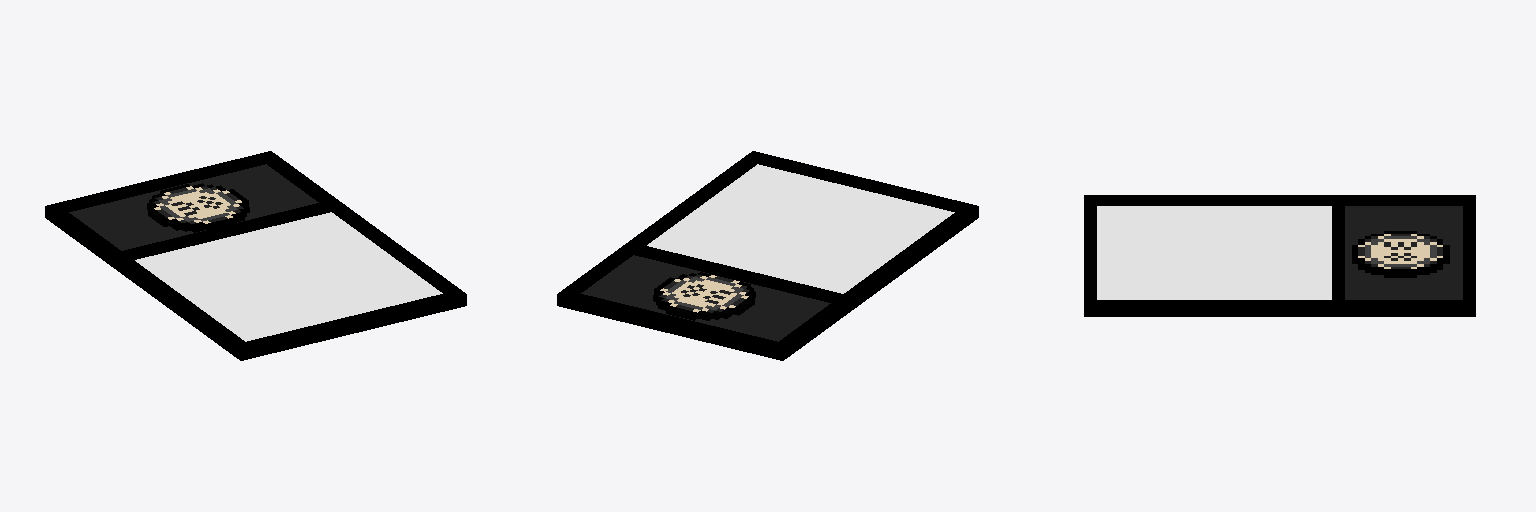
3 renders of one model, left to right at view 1: azimuth 30°, elevation 25°; view 2: azimuth 150°, elevation 25°; view 3: azimuth 270°, elevation 25°, orthographic.
Parts seen in each view (by area): view 1: object 1; view 2: object 1; view 3: object 1.
Boxes of the visible parts, x1=… form: object 1: x1=45, y1=151, x2=466, y2=360; object 1: x1=557, y1=151, x2=978, y2=360; object 1: x1=1084, y1=195, x2=1475, y2=316.
Bounding box in the file's own units: 4 × 0.2 × 6.
1 materials, 1 textured.